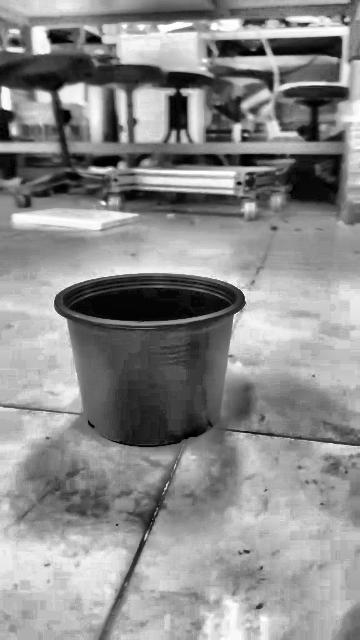pot: (54, 274, 244, 446)
